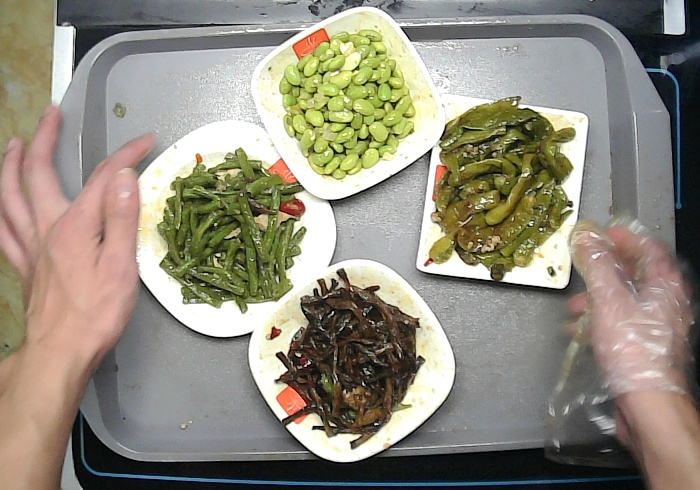SHKJ-Bai_Se_Cai_Die: (246, 257, 465, 464)
SHKJ-Bai_Se_Si_Fang_Cai_Die: (124, 113, 342, 340)
SHKJ-Bai_Se_Xiao_Fang_Die: (249, 5, 452, 198)
SHKJ-Si_Fang_Min: (416, 85, 600, 299)
